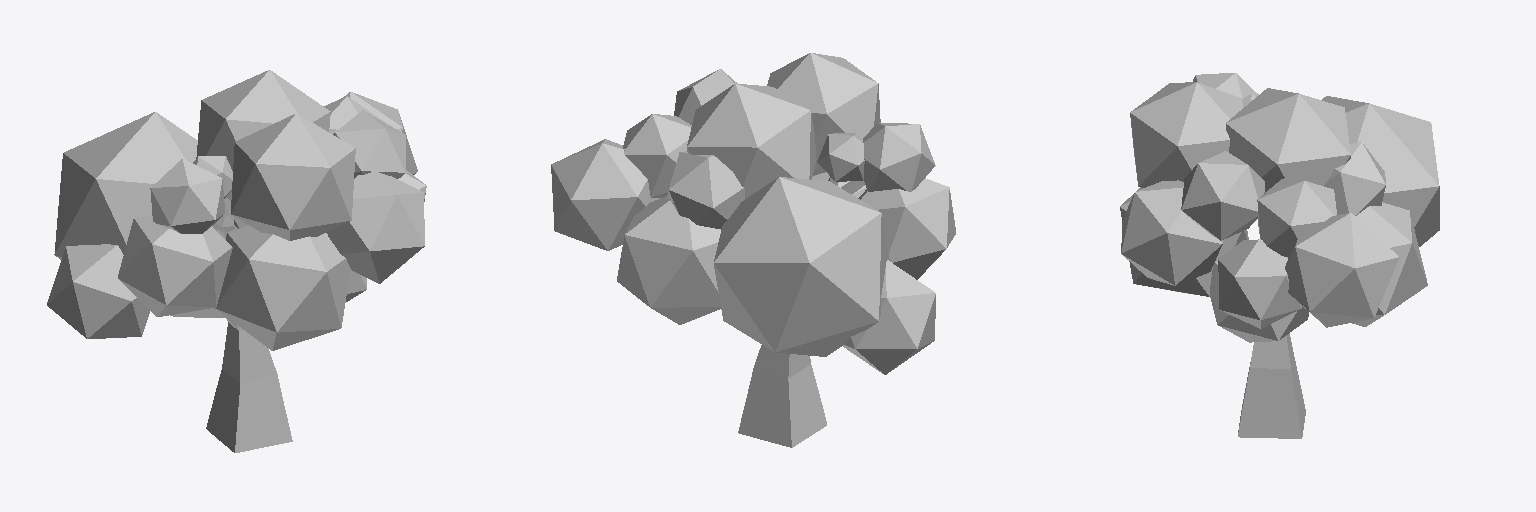
Rendered from _ree.obj.
3 views of the same model, side by side, from view 1: azimuth 30°, elevation 25°; view 2: azimuth 150°, elevation 25°; view 3: azimuth 270°, elevation 25° (orthographic).
Visible parts, largest first — view 1: Icosphere.011, Icosphere.012, Icosphere.006, Icosphere.009, Cube, Icosphere.010, Icosphere.002, Icosphere.005, Icosphere.003, Icosphere.013, Icosphere, Icosphere.001 (+1 smaller); view 2: Icosphere.006, Icosphere.005, Icosphere.007, Icosphere, Cube, Icosphere.011, Icosphere.009, Icosphere.002, Icosphere.014, Icosphere.003, Icosphere.001, Icosphere.004 (+1 smaller); view 3: Icosphere.005, Icosphere, Icosphere.011, Icosphere.006, Icosphere.010, Cube, Icosphere.013, Icosphere.015, Icosphere.001, Icosphere.007, Icosphere.014, Icosphere.008 (+2 smaller).
Part boxes in pixels (x1,y1,x2,y2): Icosphere.011: (231, 113, 355, 240); Icosphere.012: (215, 225, 350, 350); Icosphere.006: (54, 112, 233, 259); Icosphere.009: (118, 215, 232, 316); Cube: (170, 201, 292, 452); Icosphere.010: (326, 171, 424, 283); Icosphere.002: (47, 244, 149, 338); Icosphere.005: (196, 70, 330, 199); Icosphere.003: (150, 159, 224, 233); Icosphere.013: (333, 110, 405, 178); Icosphere: (343, 92, 417, 174); Icosphere.001: (323, 96, 385, 133); Icosphere.006: (714, 177, 889, 356); Icosphere.005: (687, 83, 816, 198); Icosphere.007: (617, 196, 720, 324); Icosphere: (551, 139, 659, 250); Cube: (738, 177, 864, 447); Icosphere.011: (767, 53, 880, 175); Icosphere.009: (858, 178, 955, 279); Icosphere.002: (843, 260, 935, 374); Icosphere.014: (667, 151, 744, 229); Icosphere.003: (863, 123, 935, 191); Icosphere.001: (623, 114, 691, 197); Icosphere.004: (817, 133, 864, 181); Icosphere.005: (1226, 88, 1350, 193); Icosphere: (1285, 213, 1399, 327); Icosphere.011: (1130, 82, 1242, 187); Icosphere.006: (1322, 96, 1439, 246); Icosphere.010: (1121, 180, 1222, 285); Cube: (1238, 333, 1305, 438); Icosphere.013: (1181, 151, 1264, 240); Icosphere.015: (1218, 239, 1301, 328); Icosphere.001: (1257, 177, 1336, 257); Icosphere.007: (1352, 202, 1427, 326); Icosphere.014: (1324, 142, 1385, 215); Icosphere.008: (1210, 240, 1308, 342).
Bounding box in the file's own units: 7 × 6.48 × 5.42.